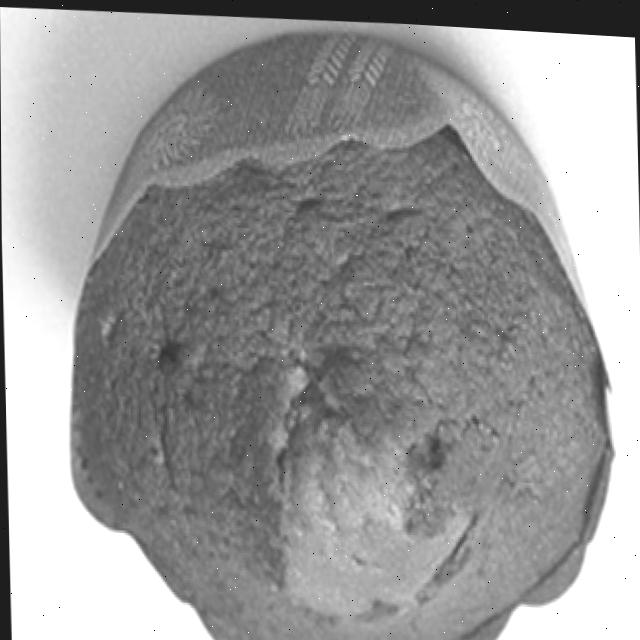炸货点心: (35, 26, 640, 640)
面包点心: (35, 26, 640, 640)
